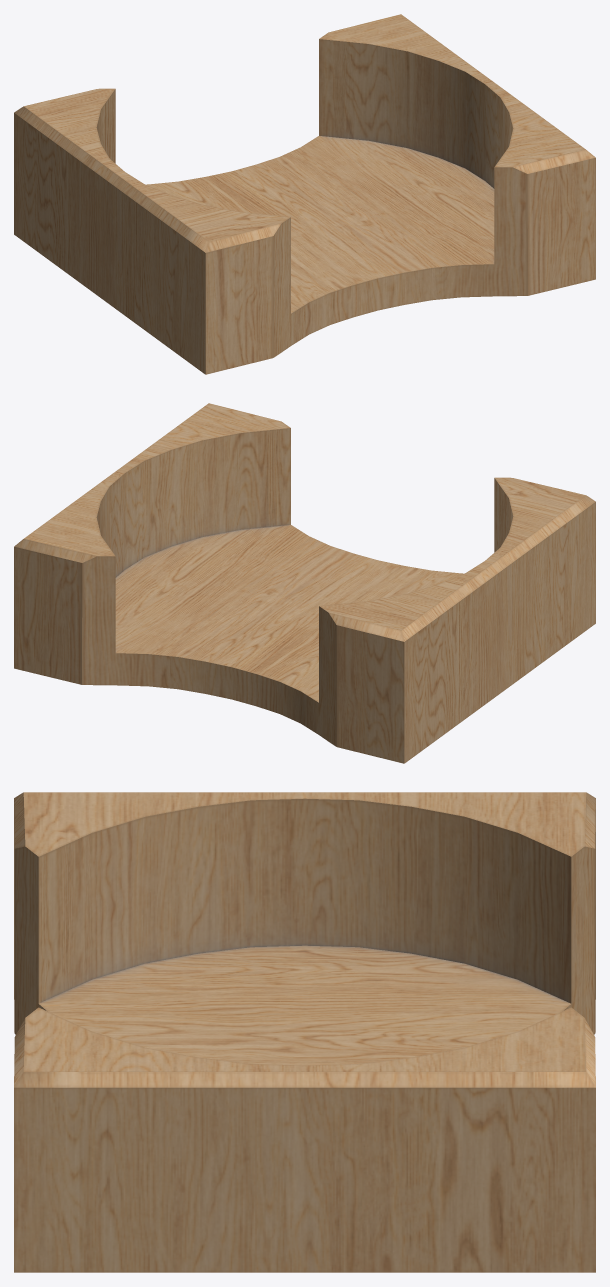
The model's file is Coaster_Holder.dae.
3 renders of one model, top to bottom at view 1: azimuth 30°, elevation 25°; view 2: azimuth 150°, elevation 25°; view 3: azimuth 270°, elevation 25°, orthographic. The views are drawn at different scales.
Visible parts, largest first — view 1: Coaster_Holder; view 2: Coaster_Holder; view 3: Coaster_Holder.
Boxes of the visible parts, x1,y1,x2,y2 form: Coaster_Holder: (14,14,595,374); Coaster_Holder: (14,403,595,763); Coaster_Holder: (14,792,595,1272).
Size of the model in its own units: 0.095 by 0.0807 by 0.03.
